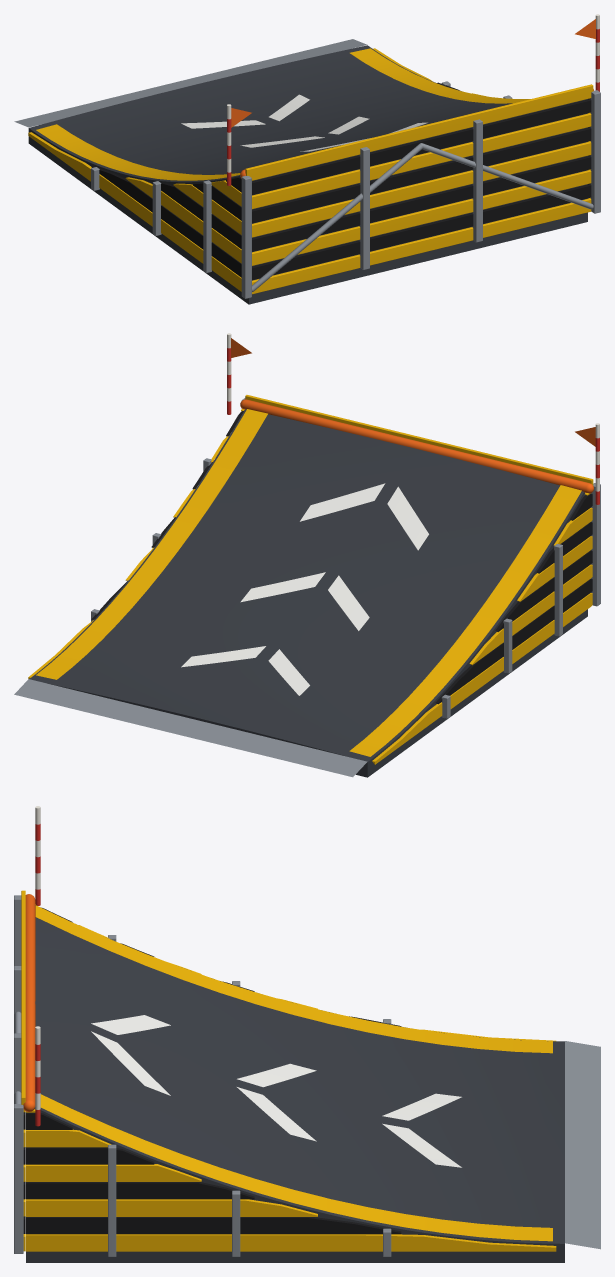
The model's file is yol-rampa.glb.
The picture shows the model from 3 angles, top to bottom: view 1: azimuth 30°, elevation 25°; view 2: azimuth 150°, elevation 25°; view 3: azimuth 270°, elevation 25°; orthographic projection. The views are drawn at different scales.
Visible parts, largest first — view 1: sac-rampa, sari-ikaz, siyah-ikaz, celik-dikme, sari-boya, beyaz-boya, turuncu-rampa, beyaz-direk; view 2: sac-rampa, sari-boya, celik-dikme, sari-ikaz, beyaz-boya, siyah-ikaz, turuncu-rampa; view 3: sac-rampa, sari-ikaz, sari-boya, celik-dikme, siyah-ikaz, beyaz-boya, turuncu-rampa, beyaz-direk, kirmizi-direk.
Part boxes in pixels (x1=…): sac-rampa: x1=28, y1=45, x2=587, y2=304; sari-ikaz: x1=28, y1=48, x2=593, y2=294; siyah-ikaz: x1=91, y1=82, x2=591, y2=279; celik-dikme: x1=14, y1=39, x2=600, y2=298; sari-boya: x1=36, y1=48, x2=530, y2=180; beyaz-boya: x1=181, y1=94, x2=427, y2=151; turuncu-rampa: x1=231, y1=19, x2=595, y2=177; beyaz-direk: x1=227, y1=14, x2=599, y2=172; sac-rampa: x1=29, y1=409, x2=587, y2=777; sari-boya: x1=36, y1=409, x2=581, y2=756; celik-dikme: x1=14, y1=398, x2=600, y2=777; sari-ikaz: x1=28, y1=395, x2=593, y2=764; beyaz-boya: x1=181, y1=483, x2=428, y2=695; siyah-ikaz: x1=91, y1=410, x2=592, y2=704; turuncu-rampa: x1=231, y1=338, x2=595, y2=493; sac-rampa: x1=26, y1=908, x2=564, y2=1262; sari-ikaz: x1=21, y1=890, x2=556, y2=1251; sari-boya: x1=35, y1=905, x2=552, y2=1241; celik-dikme: x1=14, y1=895, x2=600, y2=1256; siyah-ikaz: x1=23, y1=907, x2=401, y2=1234; beyaz-boya: x1=91, y1=1015, x2=461, y2=1167; turuncu-rampa: x1=23, y1=894, x2=35, y2=1111; beyaz-direk: x1=35, y1=806, x2=40, y2=1109; kirmizi-direk: x1=35, y1=824, x2=40, y2=1126.
Size of the model in its own units: 8.79 by 4.5 by 9.8.
